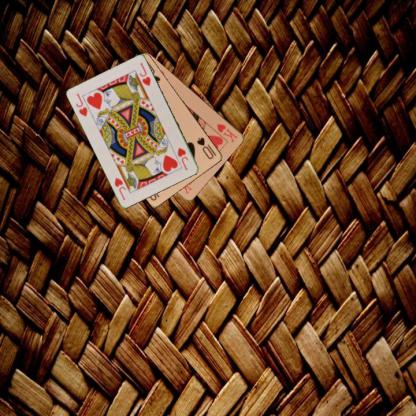10s: (194, 134, 218, 160)
Jh: (73, 91, 89, 118), (175, 145, 190, 172)
Kh: (214, 121, 239, 144)
